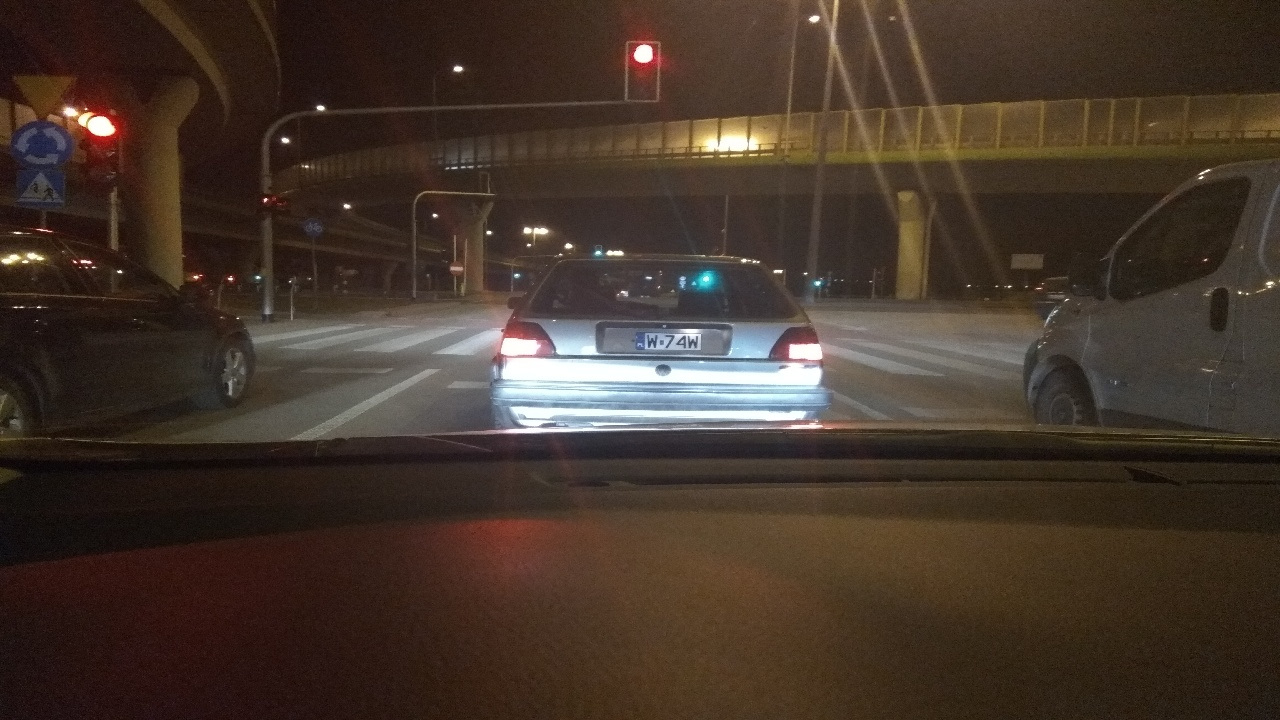A7: (7, 67, 76, 118)
C12: (9, 120, 79, 163)
D6: (11, 165, 71, 210)
